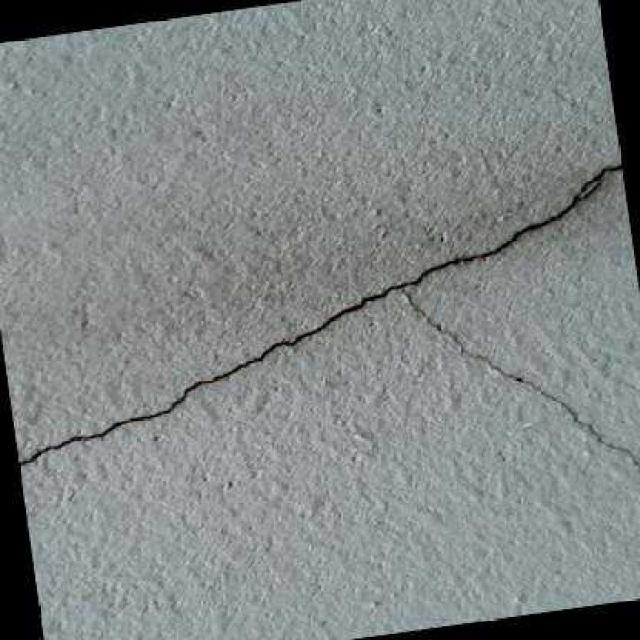D00: (17, 161, 640, 475)
